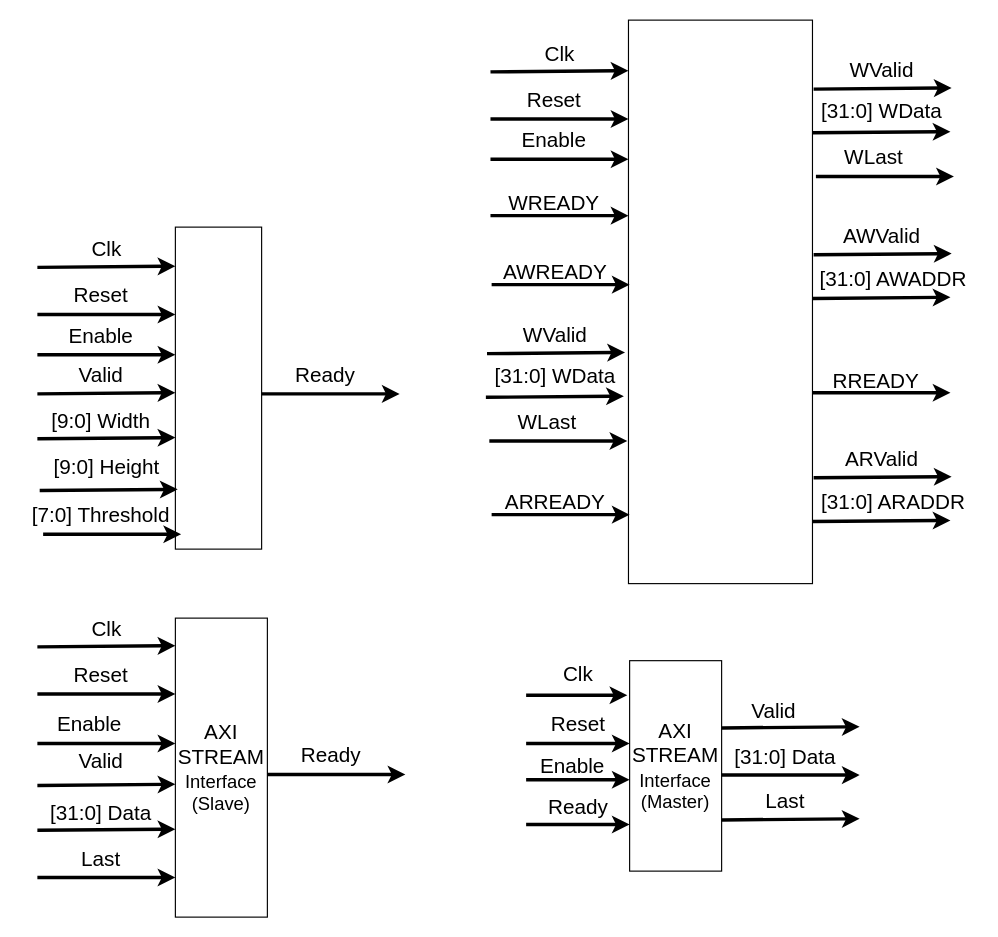
This 998x937 diagram has some shape labels left out. The centre of each missing label's shape, as x and y in pixels:
AXI LITE Interface (Slave): the point at 218,387
AXI MEM (Master): the point at 719,301
